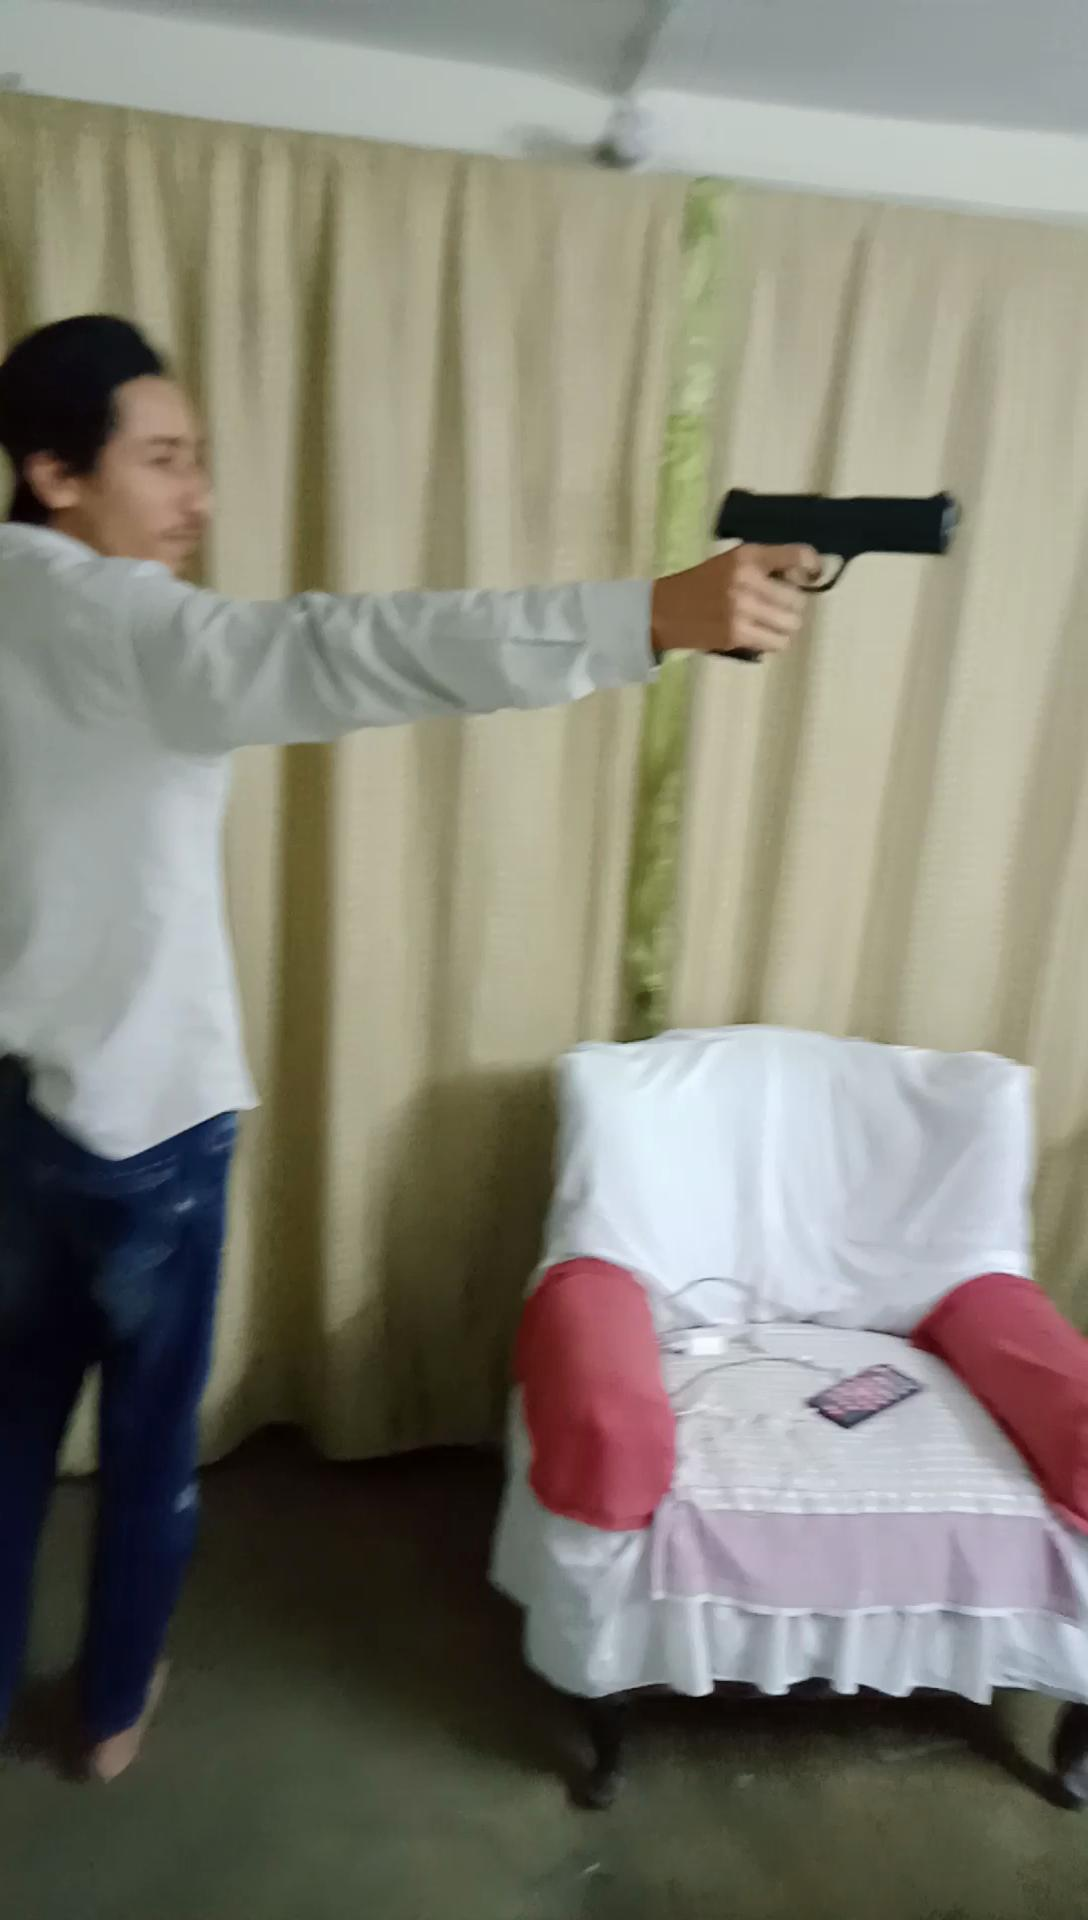criminal: (0, 306, 976, 1782)
weapon: (691, 476, 971, 673)
